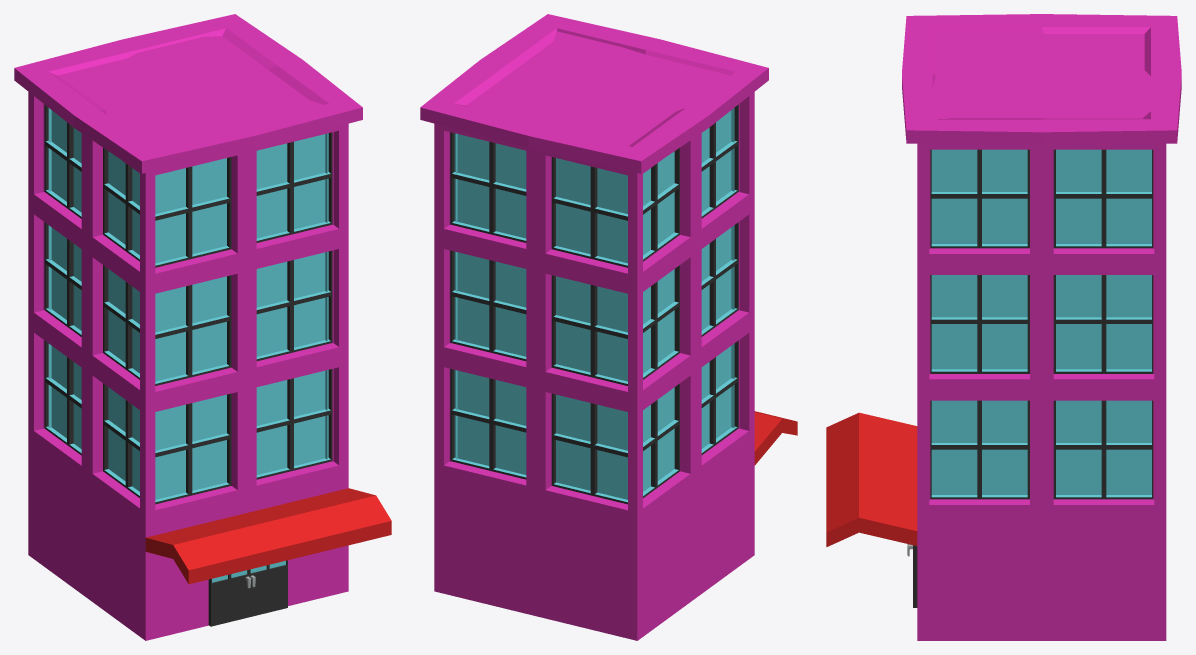
Rendered from Building blend Pink.fbx.
The picture shows the model from 3 angles, left to right: view 1: azimuth 30°, elevation 25°; view 2: azimuth 150°, elevation 25°; view 3: azimuth 270°, elevation 25°; orthographic projection. The views are drawn at different scales.
Parts seen in each view (by area): view 1: Cube.006, Plane.003; view 2: Cube.006; view 3: Cube.006.
Boxes of the visible parts, left/top/right/bottom form: Cube.006: left=14, top=14, right=391, bottom=640; Plane.003: left=208, top=560, right=287, bottom=626; Cube.006: left=420, top=14, right=797, bottom=640; Cube.006: left=826, top=14, right=1181, bottom=640.
Size of the model in its own units: 1701 by 3454 by 2161.
